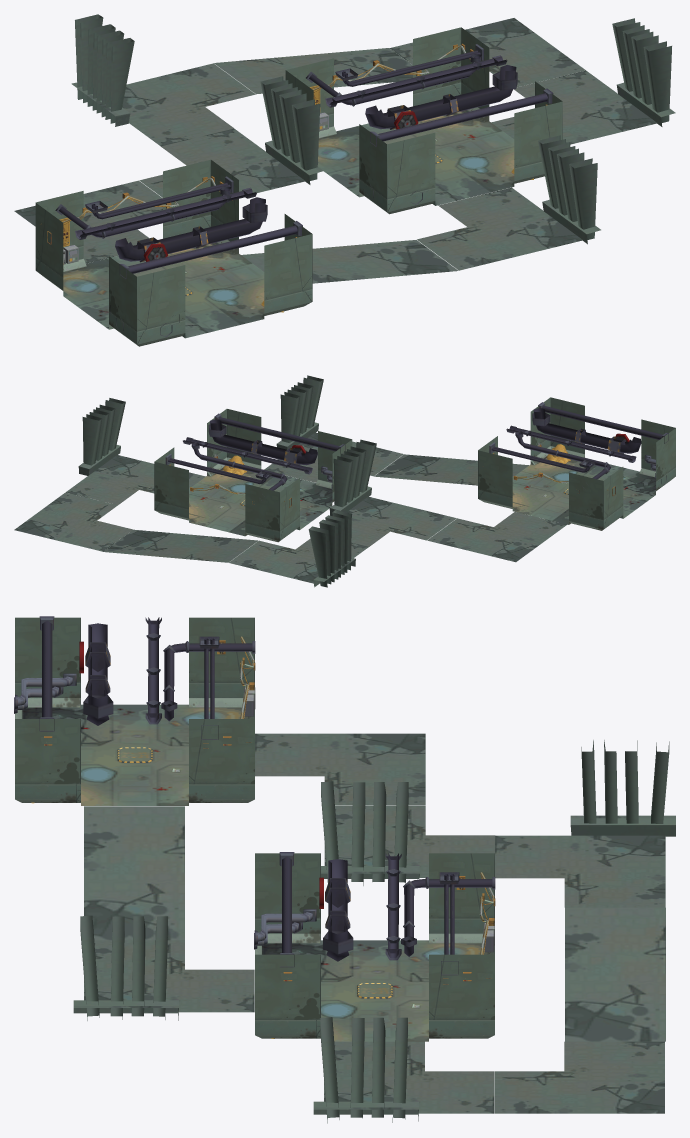
Rendered from scene_page_02.obj.
3 renders of one model, top to bottom at view 1: azimuth 30°, elevation 25°; view 2: azimuth 150°, elevation 25°; view 3: azimuth 270°, elevation 25°, orthographic. The views are drawn at different scales.
Bounding box in the file's own units: 75.86 × 12.64 × 55.16.
1 material, 1 textured.
